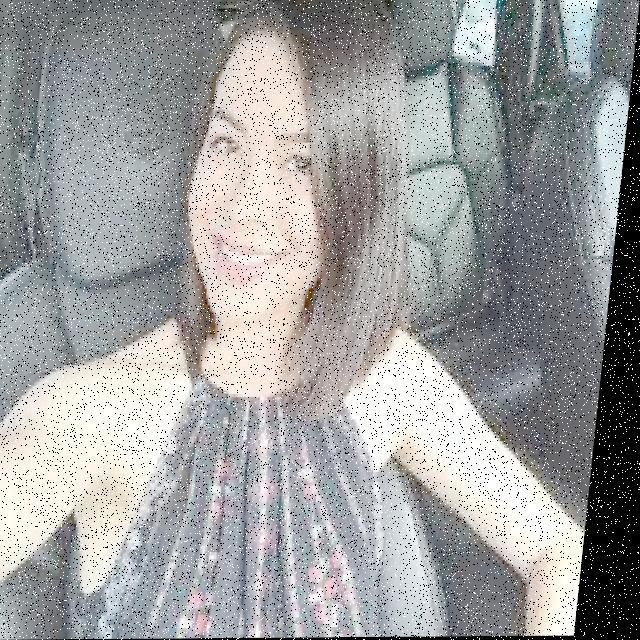noSeatbelt: (36, 316, 453, 640)
